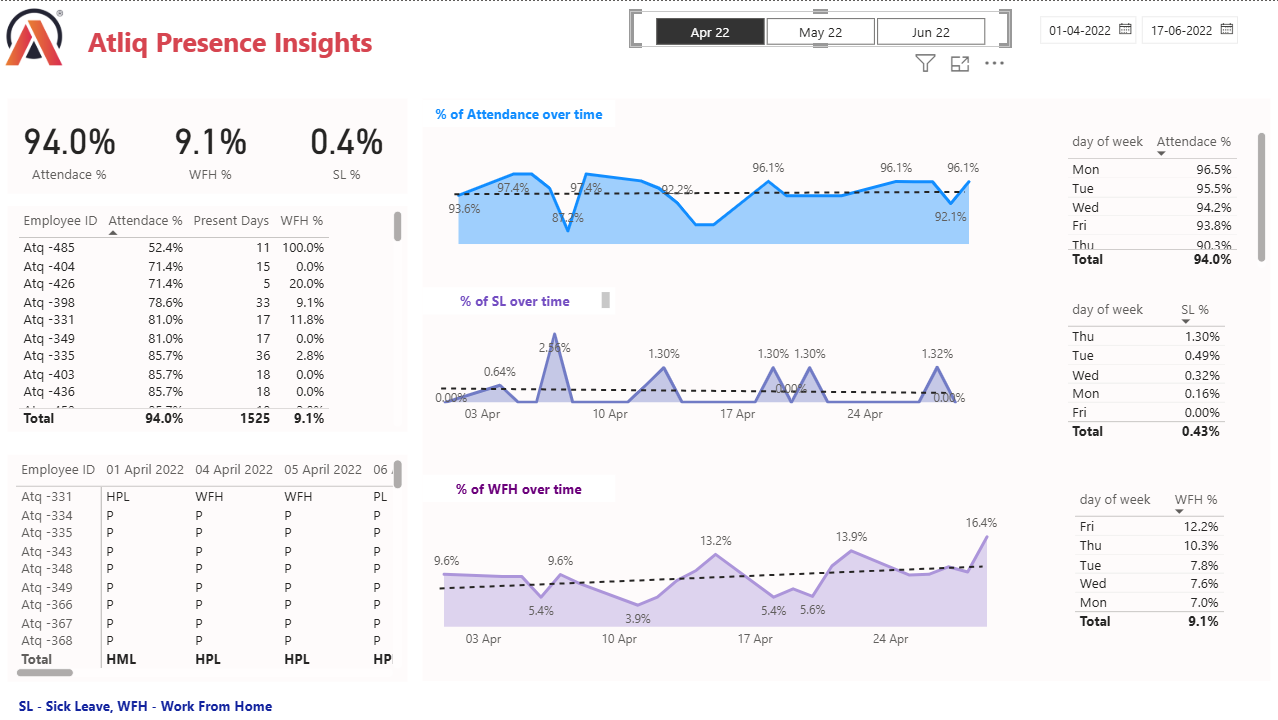

The dashboard page shown, as its layout file describes it:
{"tool":"powerbi","page":{"name":"Presence Insights","canvas":[1280,720],"ordinal":0},"visuals":[{"type":"textbox","box":[7.8,205.6,399.9,225.5],"z":0},{"type":"textbox","box":[7.8,453.3,399.8,227.6],"z":1000},{"type":"textbox","box":[422.3,97.9,848.1,582.3],"z":2000},{"type":"textbox","box":[7.8,98,399.9,95.4],"z":3000},{"type":"tableEx","fields":{"Values":["Final Data.Employee ID","Measures (2).Attendace %","Measures (2).Present Days","Measures (2).WFH %"]},"box":[12.6,205.2,394.9,225.7],"z":4000},{"type":"slicer","fields":{"Values":["Final Data.Date"]},"box":[1027.3,5.2,252.7,46.3],"z":5000},{"type":"slicer","fields":{"Values":["Final Data.MMM YY"]},"box":[630.4,10.5,379.5,35.8],"z":6000},{"type":"areaChart","fields":{"Category":["Final Data.MMM YY","Final Data.Date"],"Y":["Measures (2).WFH %"]},"box":[420.7,502.3,589,153.5],"z":7000},{"type":"areaChart","fields":{"Category":["Final Data.WeekNo","Final Data.Date"],"Y":["Measures (2).Attendace %"]},"box":[444.1,144.9,540.4,103.2],"z":8000},{"type":"card","fields":{"Values":["Measures (2).Attendace %"]},"box":[7.8,98,124,96.3],"z":9000},{"type":"card","fields":{"Values":["Measures (2).WFH %"]},"box":[141.4,98,138.8,96.3],"z":10000},{"type":"areaChart","fields":{"Category":["Final Data.MMM YY","Final Data.Date"],"Y":["Measures (2).SL %"]},"box":[422.5,307.1,556,124],"z":11000},{"type":"image","box":[0,0,70,71],"z":12000},{"type":"card","fields":{"Values":["Measures (2).SL %"]},"box":[286.3,97.2,121.4,96.3],"z":13000},{"type":"textbox","box":[70.3,0,320.1,71.1],"z":14000},{"type":"textbox","box":[422.4,98.2,192.5,27.5],"z":15000},{"type":"textbox","box":[422.5,286.3,192.6,26.9],"z":16000},{"type":"textbox","box":[422.1,473.7,192.6,27.2],"z":17000},{"type":"pivotTable","fields":{"Rows":["Final Data.Employee ID"],"Columns":["Final Data.Date"],"Values":["Min(Final Data.Value)"]},"box":[11.7,453.3,395.9,227.6],"z":18000},{"type":"textbox","box":[13.6,691.6,289.8,28.2],"z":19000},{"type":"tableEx","fields":{"Values":["Final Data.day of week","Measures (2).Attendace %"]},"box":[1060.9,125.8,209.9,145.7],"z":20000},{"type":"tableEx","fields":{"Values":["Final Data.day of week","Measures (2).SL %"]},"box":[1060.9,294.1,191.7,167.4],"z":21000},{"type":"tableEx","fields":{"Values":["Final Data.day of week","Measures (2).WFH %"]},"box":[1068.7,483.2,170,167.4],"z":22000}]}

Visuals, with their boxes on the page's 1280x720 design canvas (x1, y1, x2, y2). These are canvas units, not pixel positions in the 1278x720 screenshot, which may show the page scaled, cropped or inside an application window:
textbox: Rect(8, 206, 408, 431)
textbox: Rect(8, 453, 408, 681)
textbox: Rect(422, 98, 1270, 680)
textbox: Rect(8, 98, 408, 193)
tableEx - Final Data.Employee ID x Measures (2).Attendace %: Rect(13, 205, 408, 431)
slicer - Final Data.Date: Rect(1027, 5, 1280, 52)
slicer - Final Data.MMM YY: Rect(630, 10, 1010, 46)
areaChart - Final Data.MMM YY x Final Data.Date: Rect(421, 502, 1010, 656)
areaChart - Final Data.WeekNo x Final Data.Date: Rect(444, 145, 984, 248)
card - Measures (2).Attendace %: Rect(8, 98, 132, 194)
card - Measures (2).WFH %: Rect(141, 98, 280, 194)
areaChart - Final Data.MMM YY x Final Data.Date: Rect(422, 307, 978, 431)
image: Rect(0, 0, 70, 71)
card - Measures (2).SL %: Rect(286, 97, 408, 194)
textbox: Rect(70, 0, 390, 71)
textbox: Rect(422, 98, 615, 126)
textbox: Rect(422, 286, 615, 313)
textbox: Rect(422, 474, 615, 501)
pivotTable - Final Data.Employee ID x Final Data.Date: Rect(12, 453, 408, 681)
textbox: Rect(14, 692, 303, 720)
tableEx - Final Data.day of week x Measures (2).Attendace %: Rect(1061, 126, 1271, 272)
tableEx - Final Data.day of week x Measures (2).SL %: Rect(1061, 294, 1253, 462)
tableEx - Final Data.day of week x Measures (2).WFH %: Rect(1069, 483, 1239, 651)
